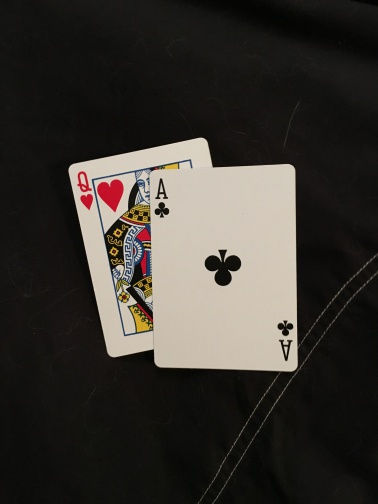ace: (149, 162, 299, 371)
queen: (66, 159, 155, 358)
